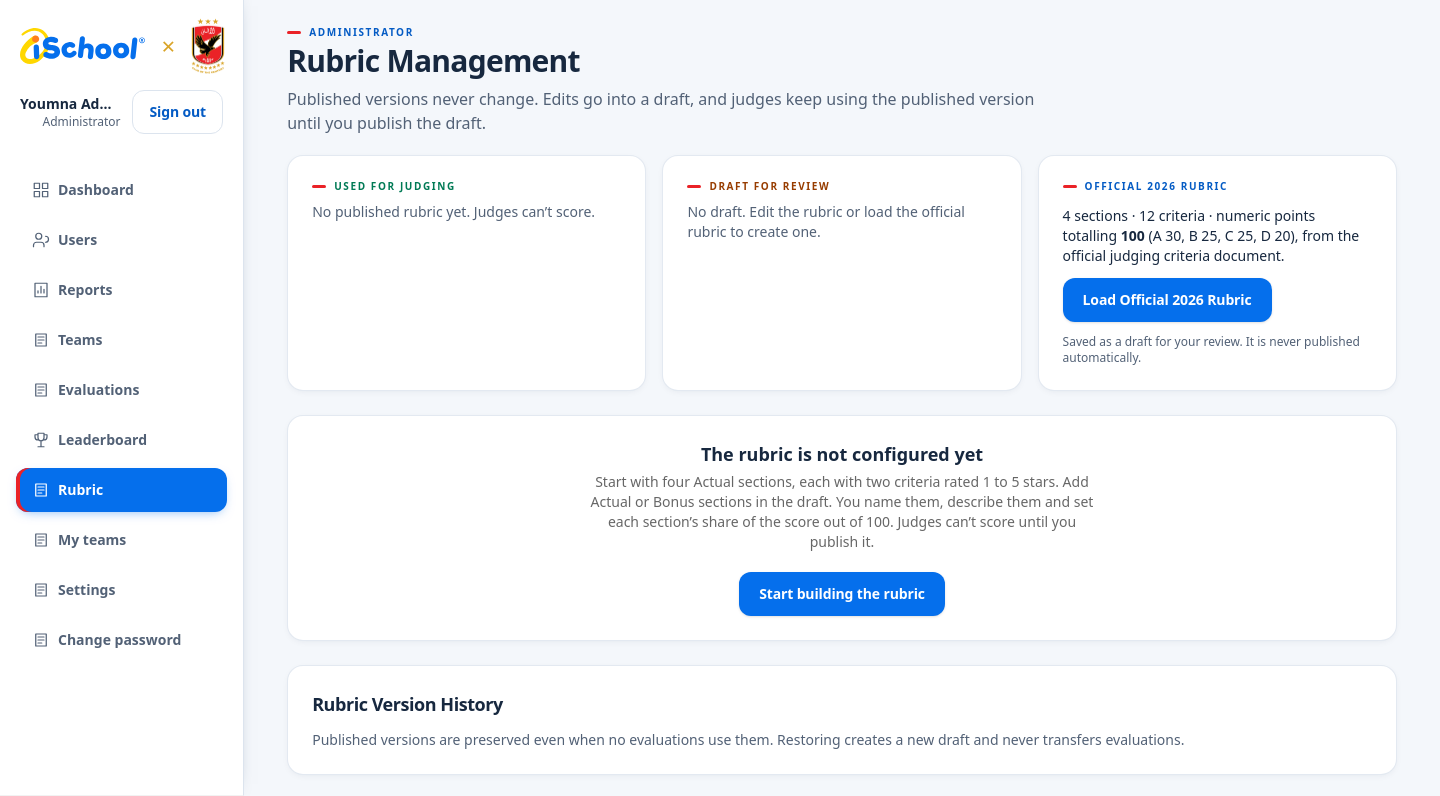
Test case: Rubric Management › is in the admin navigation and starts a 4 × 2 draft from Not configured
This screenshot has width=1440, height=796.
expect the link "Rubric" is shown: met, box [16,468,227,512]
expect the text "The rubric is not configured yet" is shown: met, box [701,442,983,466]
Click the button "Start building the rubric" at (842, 594), box [739,572,945,616]
(page scrolled)
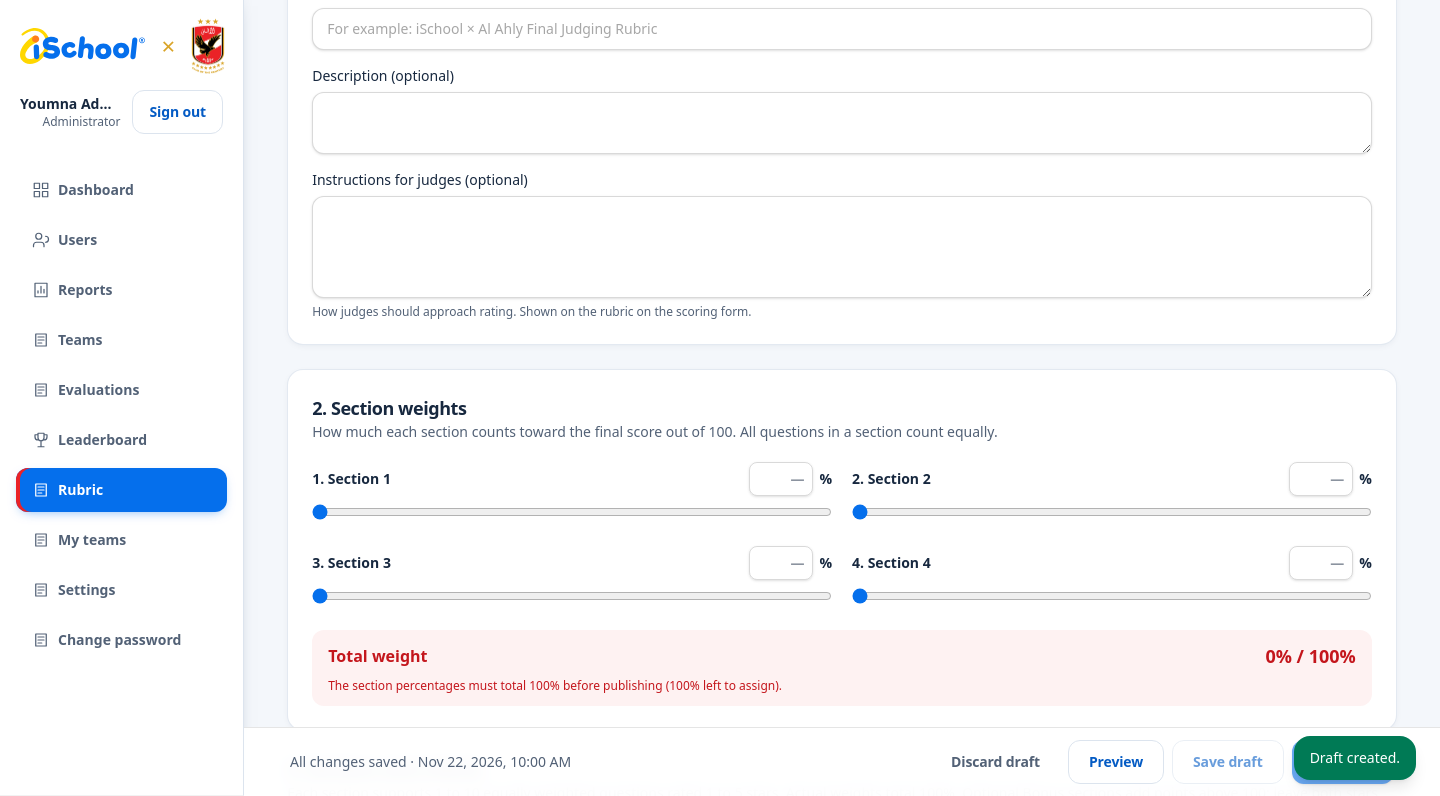
expect the heading "2. Section weights" is shown: met, box [312,396,466,420]
expect the text "0% / 100%" is shown 2 times: met
